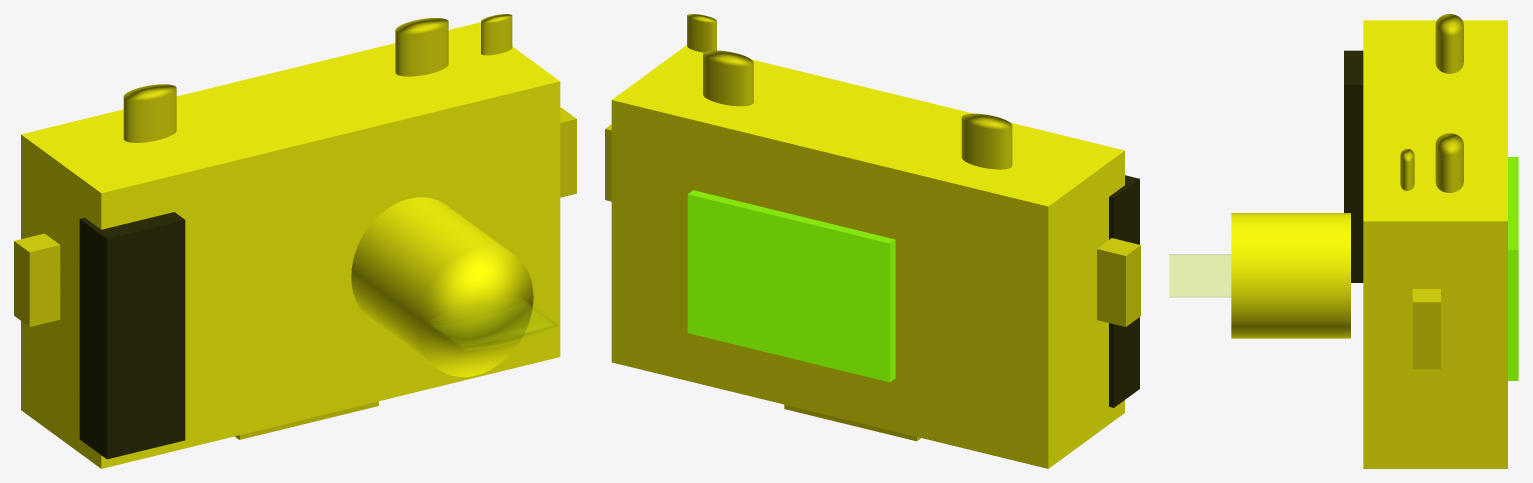
The model's file is variant-product.glb.
The picture shows the model from 3 angles, left to right: view 1: azimuth 30°, elevation 25°; view 2: azimuth 150°, elevation 25°; view 3: azimuth 270°, elevation 25°; orthographic projection. The views are drawn at different scales.
Parts seen in each view (by area): view 1: body, rubber-grip, lens-barrel, lens-glass, left-strap-lug, top-dial-right, top-dial-left, right-strap-lug, shutter-button, tripod-plate; view 2: body, rear-screen, rubber-grip, left-strap-lug, top-dial-left, top-dial-right, shutter-button, tripod-plate; view 3: body, lens-barrel, rubber-grip, lens-glass, rear-screen, right-strap-lug, top-dial-right, top-dial-left, shutter-button.
Part boxes in pixels (left/top/right/bottom): body: left=21, top=22, right=560, bottom=468; rubber-grip: left=79, top=212, right=185, bottom=459; lens-barrel: left=351, top=197, right=533, bottom=376; lens-glass: left=429, top=298, right=557, bottom=349; left-strap-lug: left=14, top=233, right=60, bottom=326; top-dial-right: left=395, top=18, right=448, bottom=76; top-dial-left: left=123, top=84, right=176, bottom=142; right-strap-lug: left=560, top=107, right=576, bottom=197; shutter-button: left=481, top=14, right=512, bottom=55; tripod-plate: left=235, top=401, right=378, bottom=439; body: left=611, top=45, right=1124, bottom=468; rear-screen: left=687, top=190, right=895, bottom=382; rubber-grip: left=1109, top=175, right=1139, bottom=407; left-strap-lug: left=1097, top=238, right=1140, bottom=326; top-dial-left: left=961, top=113, right=1012, bottom=169; top-dial-right: left=703, top=50, right=753, bottom=106; shutter-button: left=687, top=14, right=716, bottom=52; tripod-plate: left=784, top=404, right=920, bottom=441; body: left=1363, top=20, right=1507, bottom=468; lens-barrel: left=1231, top=213, right=1350, bottom=338; rubber-grip: left=1344, top=50, right=1363, bottom=282; lens-glass: left=1169, top=254, right=1230, bottom=297; rear-screen: left=1508, top=157, right=1518, bottom=380; right-strap-lug: left=1412, top=289, right=1440, bottom=369; top-dial-right: left=1435, top=133, right=1463, bottom=192; top-dial-left: left=1435, top=14, right=1463, bottom=73; shutter-button: left=1400, top=149, right=1414, bottom=190.
Bounding box in the file's own units: 3.22 × 2 × 1.98.
5 materials, 5 textured.
